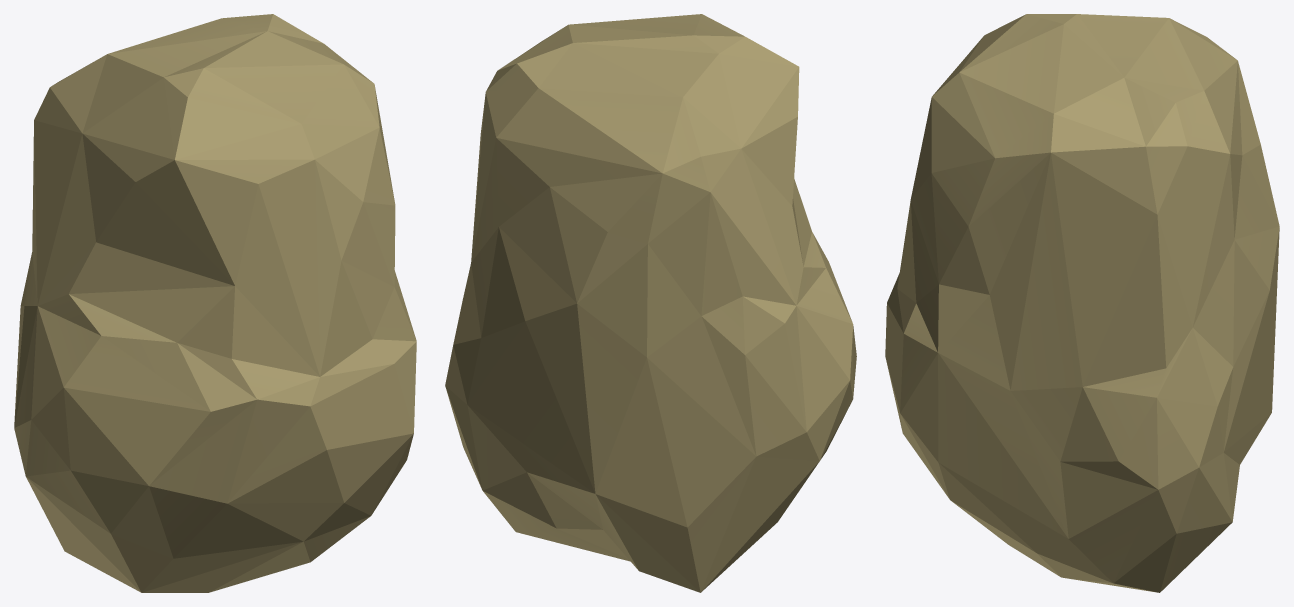
The model's file is SM_small_rock_25.fbx.
3 renders of one model, left to right at view 1: azimuth 30°, elevation 25°; view 2: azimuth 150°, elevation 25°; view 3: azimuth 270°, elevation 25°, orthographic. The views are drawn at different scales.
Parts seen in each view (by area): view 1: small_rock_25; view 2: small_rock_25; view 3: small_rock_25.
Boxes of the visible parts, left/top/right/bottom form: small_rock_25: left=14, top=14, right=416, bottom=592; small_rock_25: left=445, top=14, right=856, bottom=592; small_rock_25: left=885, top=14, right=1279, bottom=592.
Size of the model in its own units: 91.17 by 122 by 86.15.
